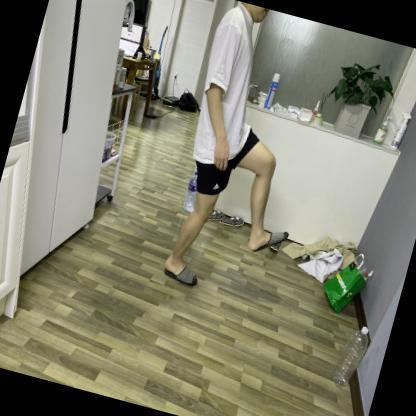no_safety-shoe: (154, 248, 206, 301), (240, 220, 295, 266)
